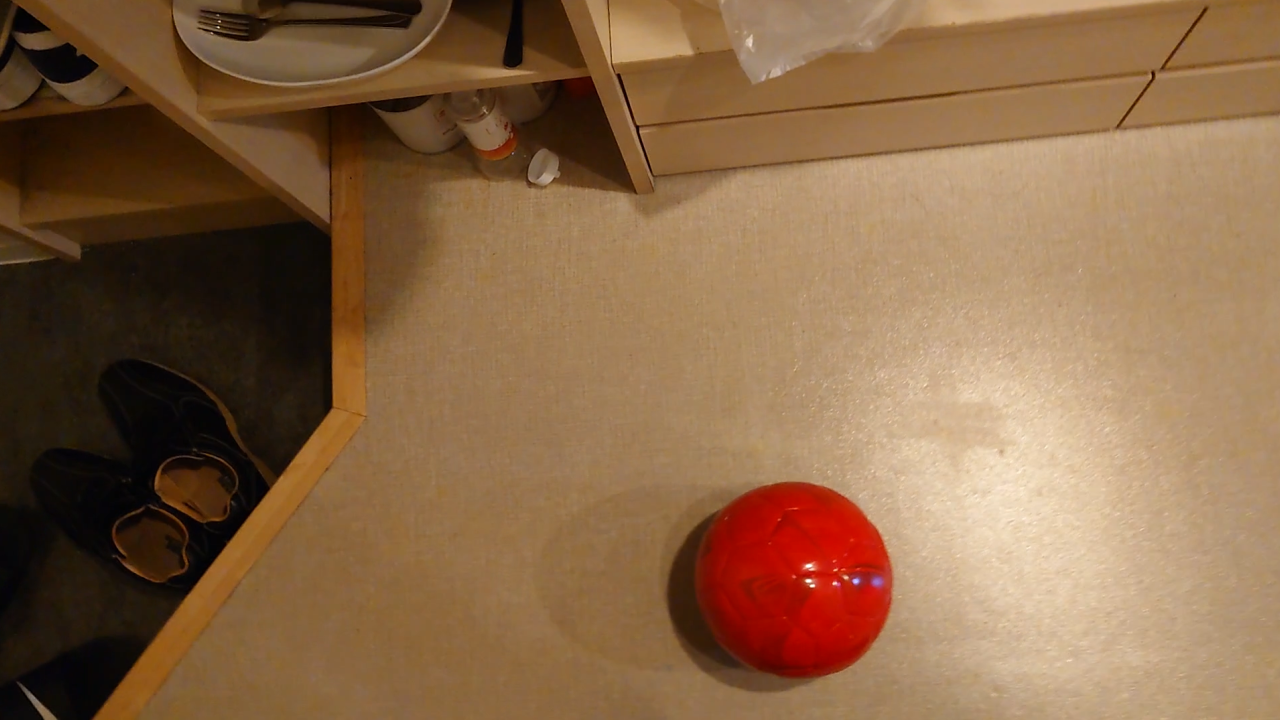red: (695, 483, 892, 680)
